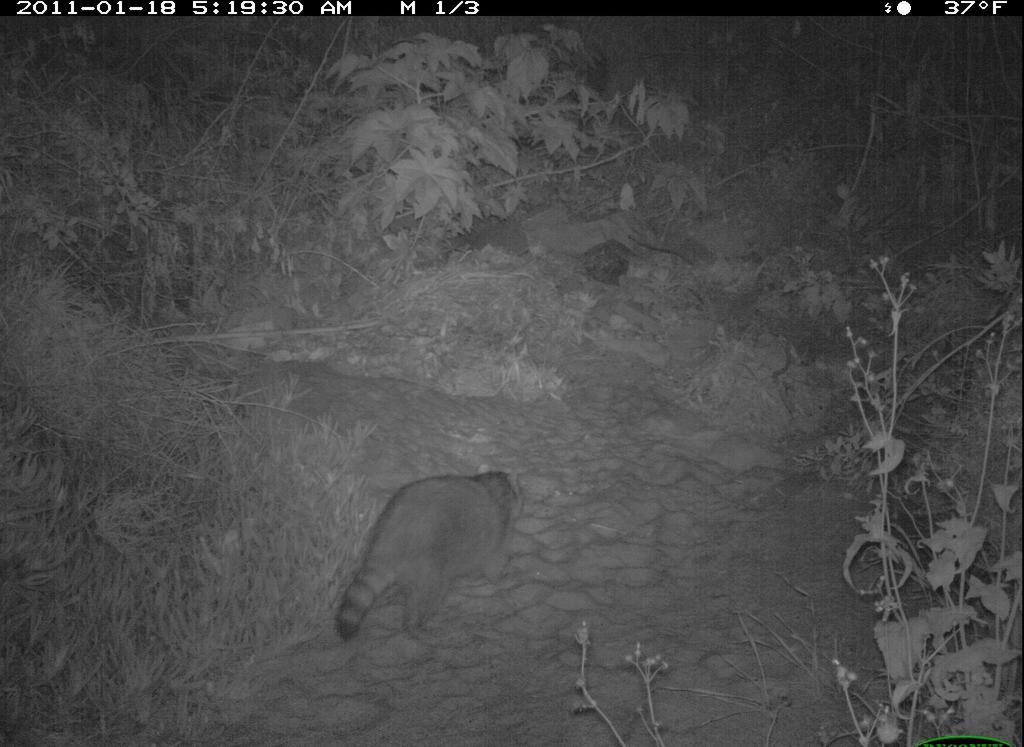raccoon: (328, 460, 539, 653)
